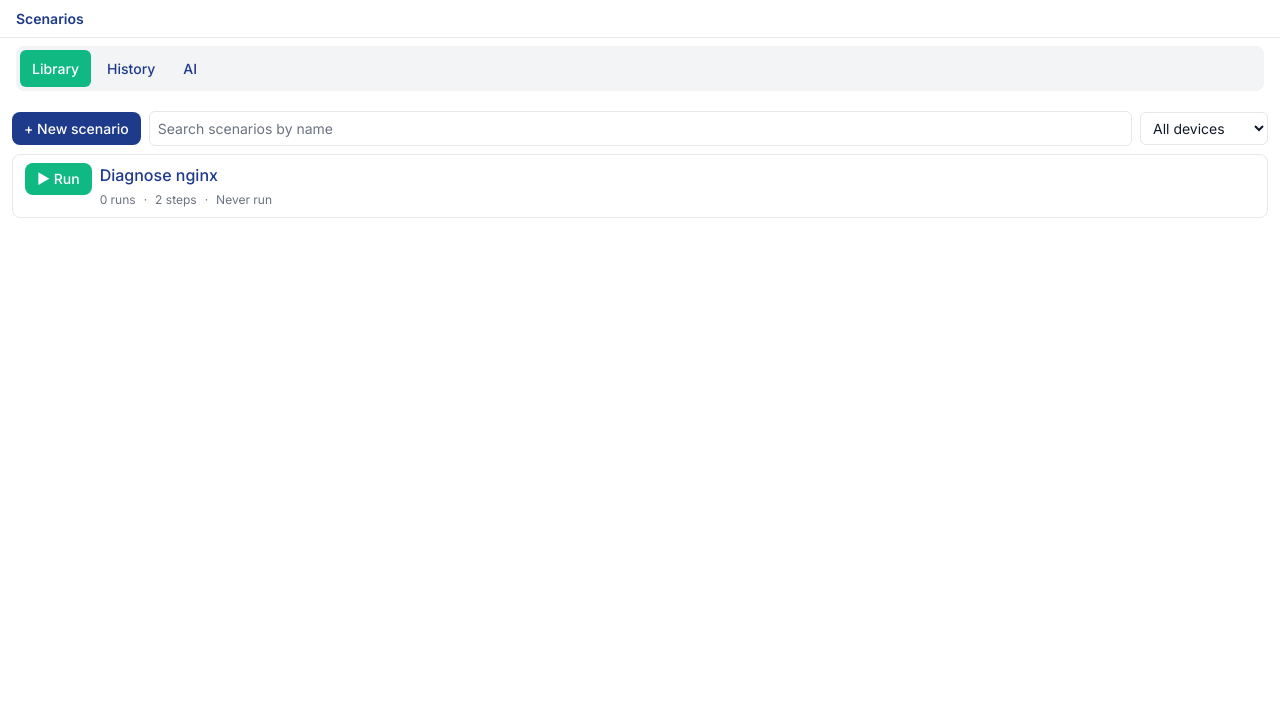
ScenariosPanel — segmented control & sessionStorage › hides SegmentedControl in editor mode
Expected: the element with test id "scenarios-panel-segment" is shown, [16,46,1264,91]
Note: Click + New scenario to enter editor mode
Click the button with test id "scenarios-new-button". click: [76, 128]
box: [12,112,141,145]
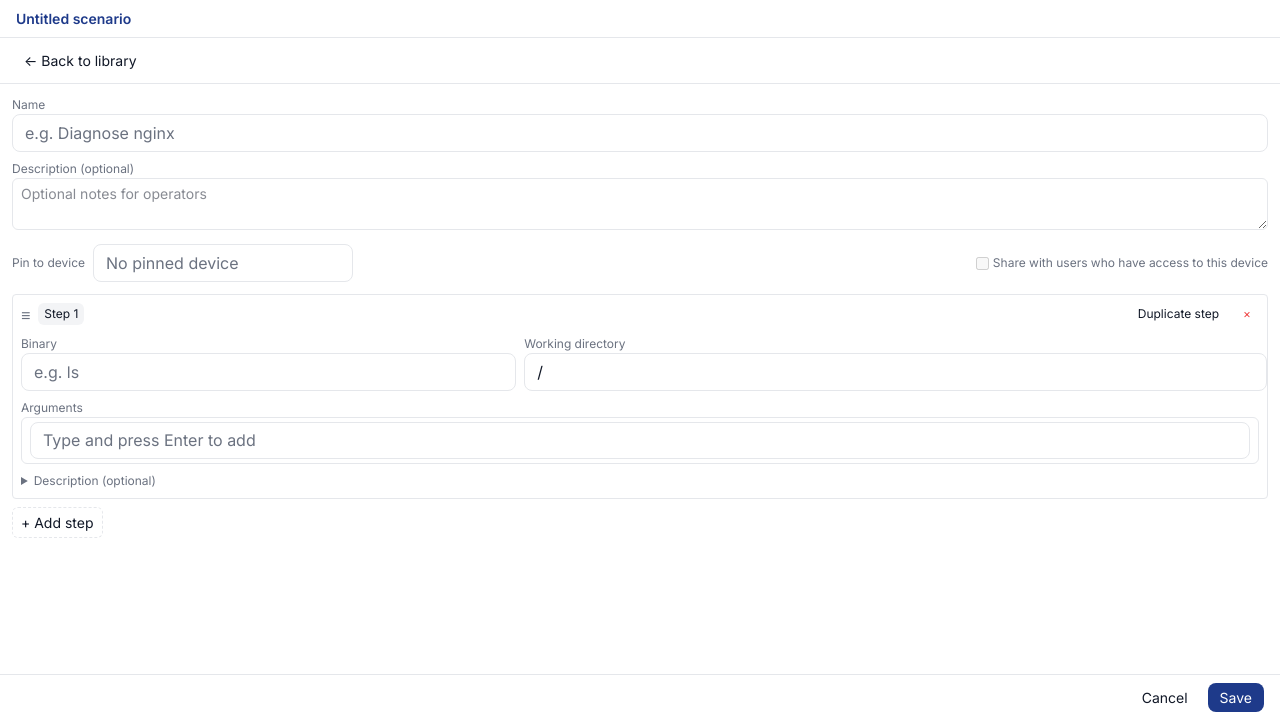
Now the element with test id "scenarios-panel-segment" is gone
